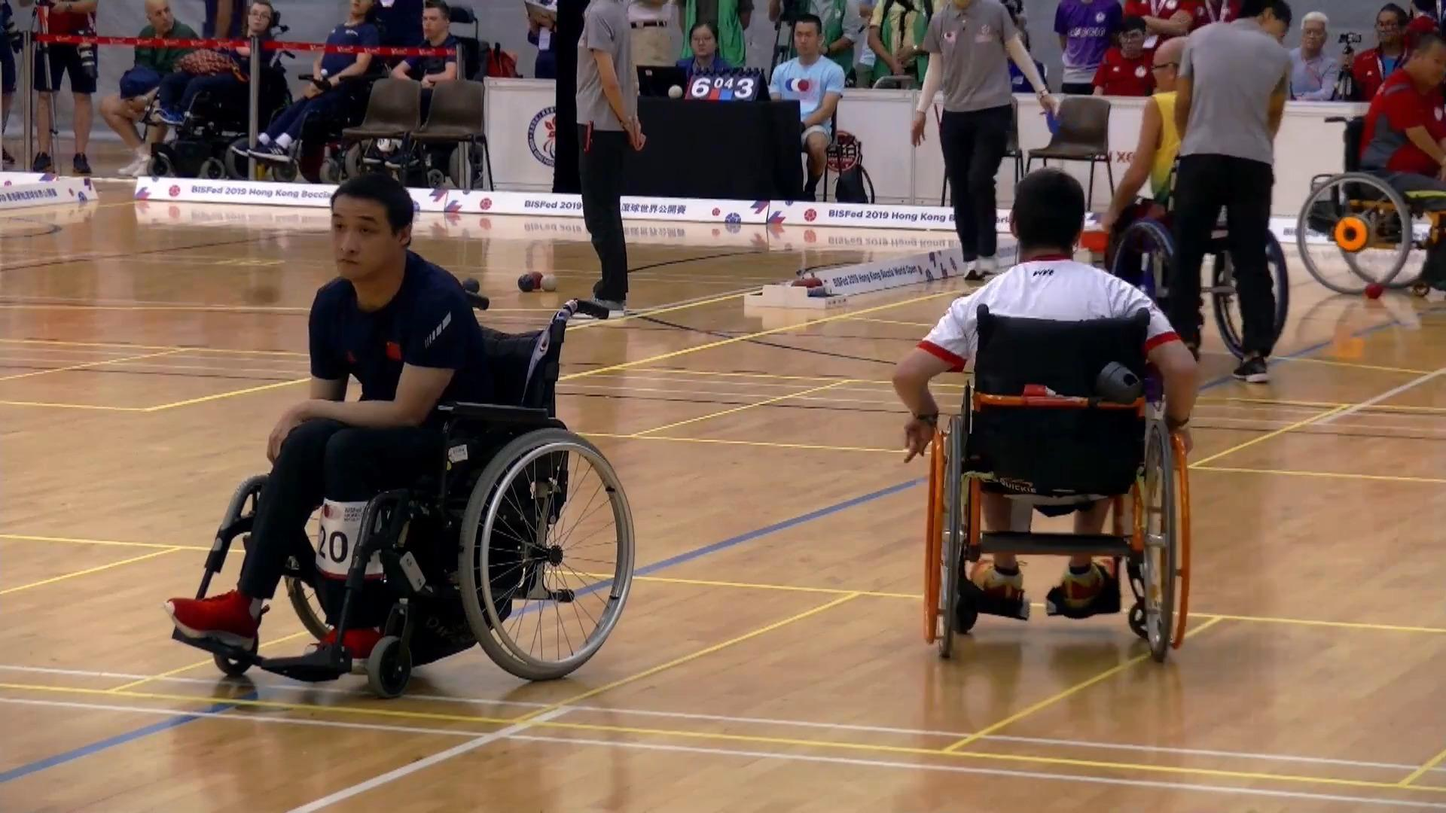blue_ball: (516, 273, 537, 294), (459, 275, 481, 295)
red_ball: (528, 270, 546, 291)
white_ball: (539, 273, 559, 293)
